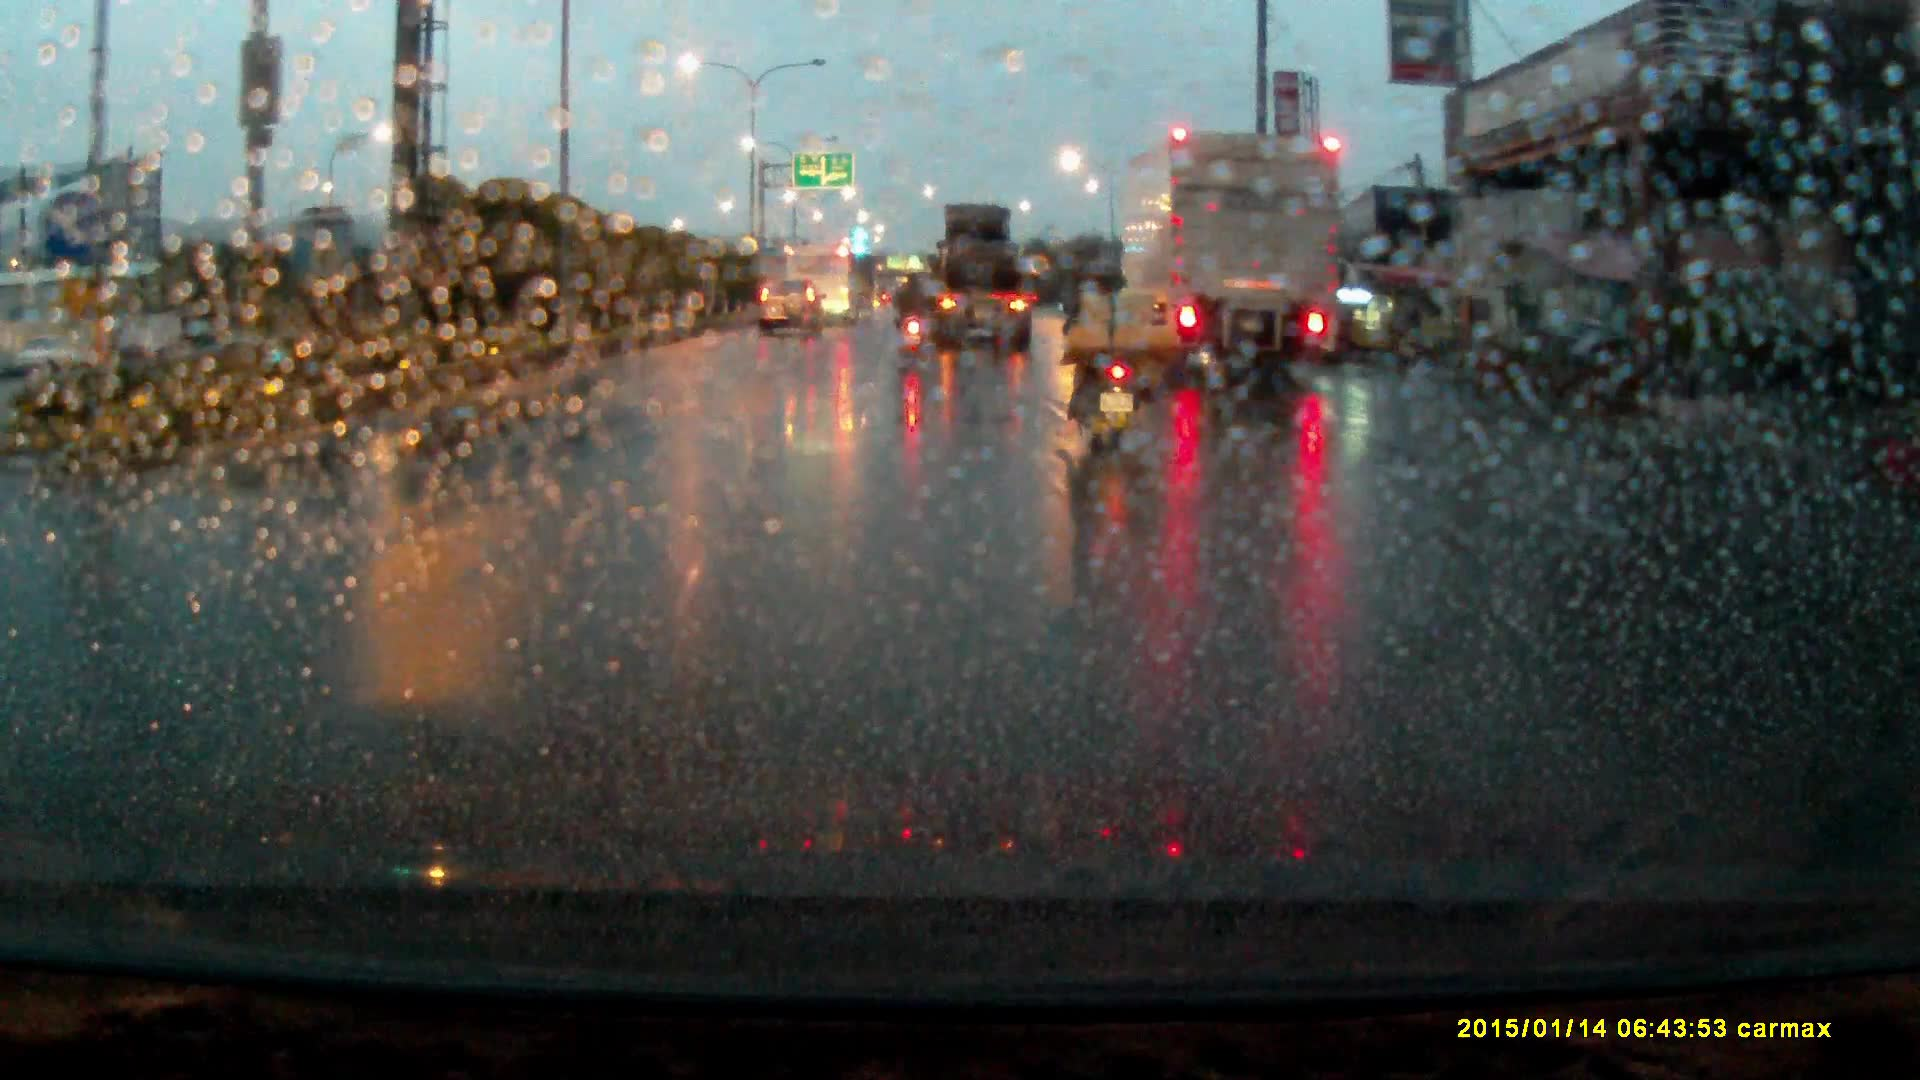rider: (1061, 253, 1146, 456), (892, 269, 933, 356)
vehicle: (1110, 129, 1341, 390), (928, 207, 1038, 364), (787, 244, 862, 327), (757, 285, 828, 350)
